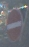No entry: (5, 6, 24, 42)
